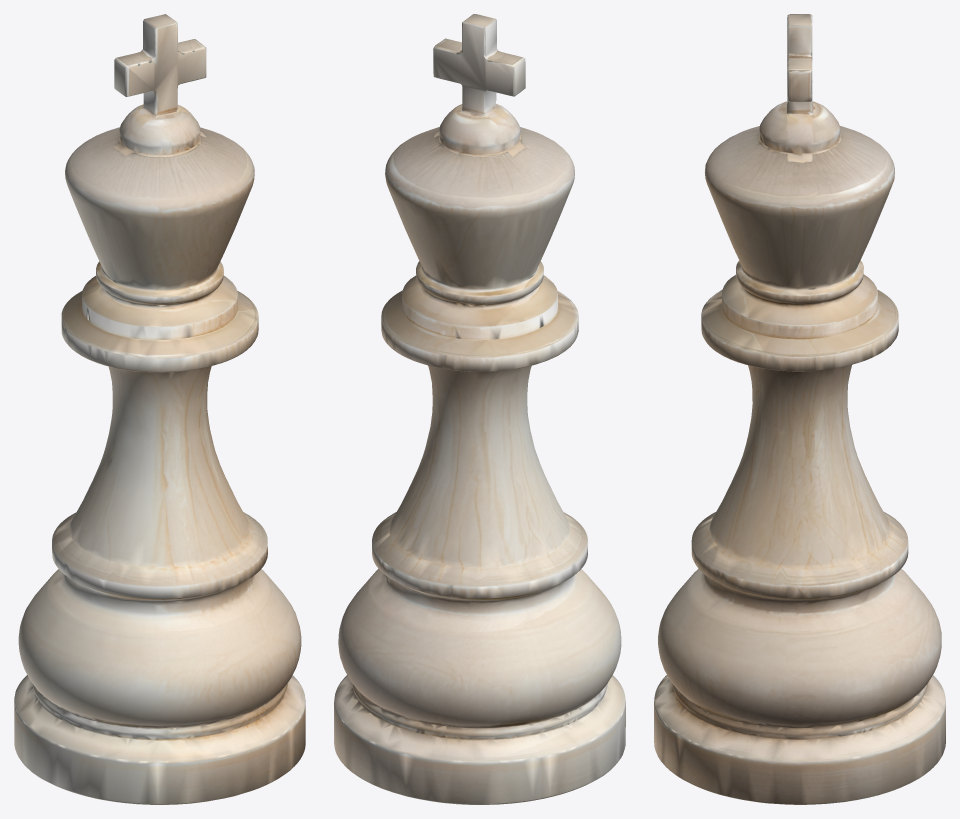
Rendered from White_Chess_King_v02.fbx.
3 renders of one model, left to right at view 1: azimuth 30°, elevation 25°; view 2: azimuth 150°, elevation 25°; view 3: azimuth 270°, elevation 25°, orthographic.
Parts seen in each view (by area): view 1: White_Chess_King_model; view 2: White_Chess_King_model; view 3: White_Chess_King_model.
Boxes of the visible parts, x1,y1,x2,y2 form: White_Chess_King_model: (14,14,305,804); White_Chess_King_model: (334,14,625,804); White_Chess_King_model: (654,14,945,804).
Bounding box in the file's own units: 0.3644 × 1 × 0.3641.
Materials: 1 (1 with a texture image).
